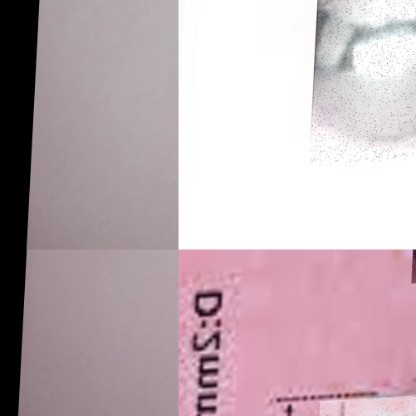ironball: (312, 0, 415, 167)
